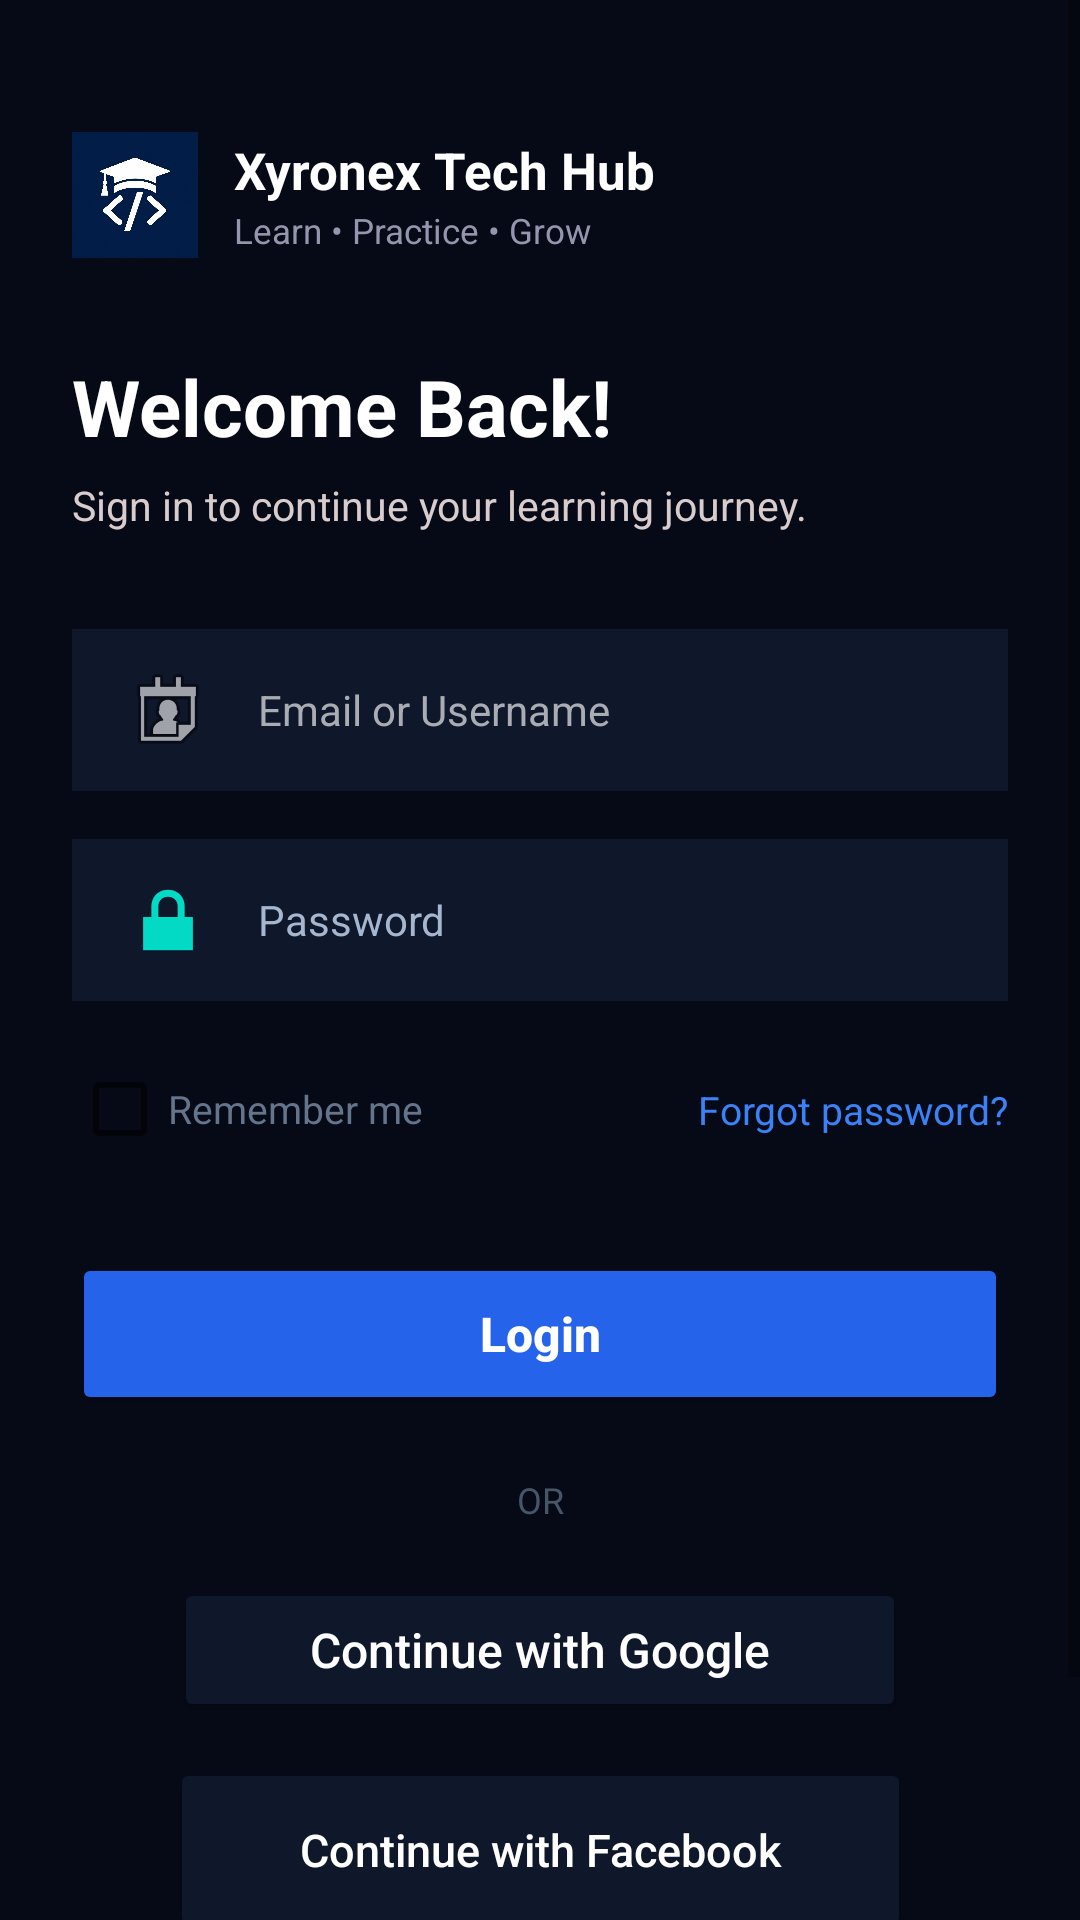

Icon click points for this 1080px x 1920px phone screenshot, format [x,y]:
app: [135,195]
